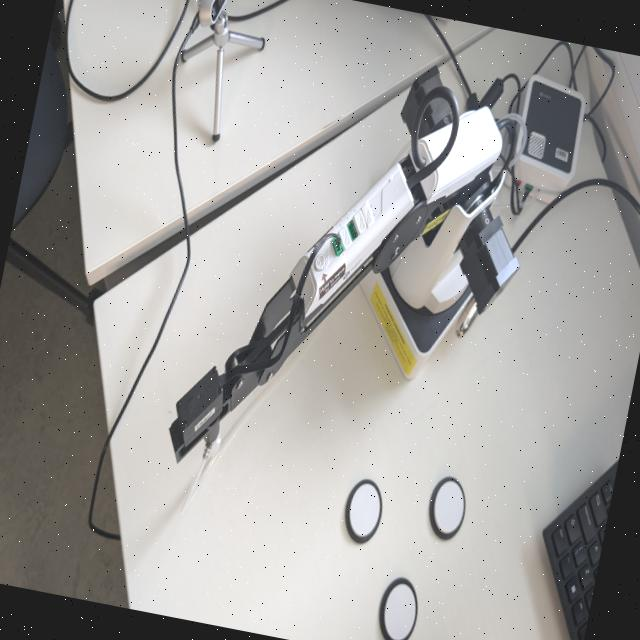Robot-end-effector-HF8z: (159, 356, 236, 474)
